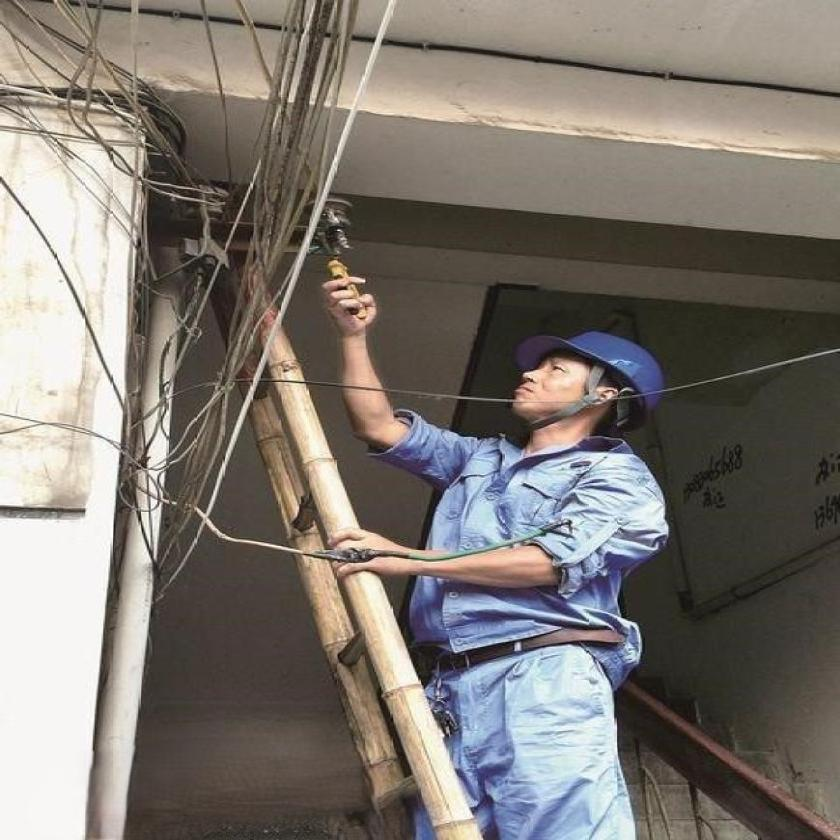Con_casco: (499, 317, 667, 447)
